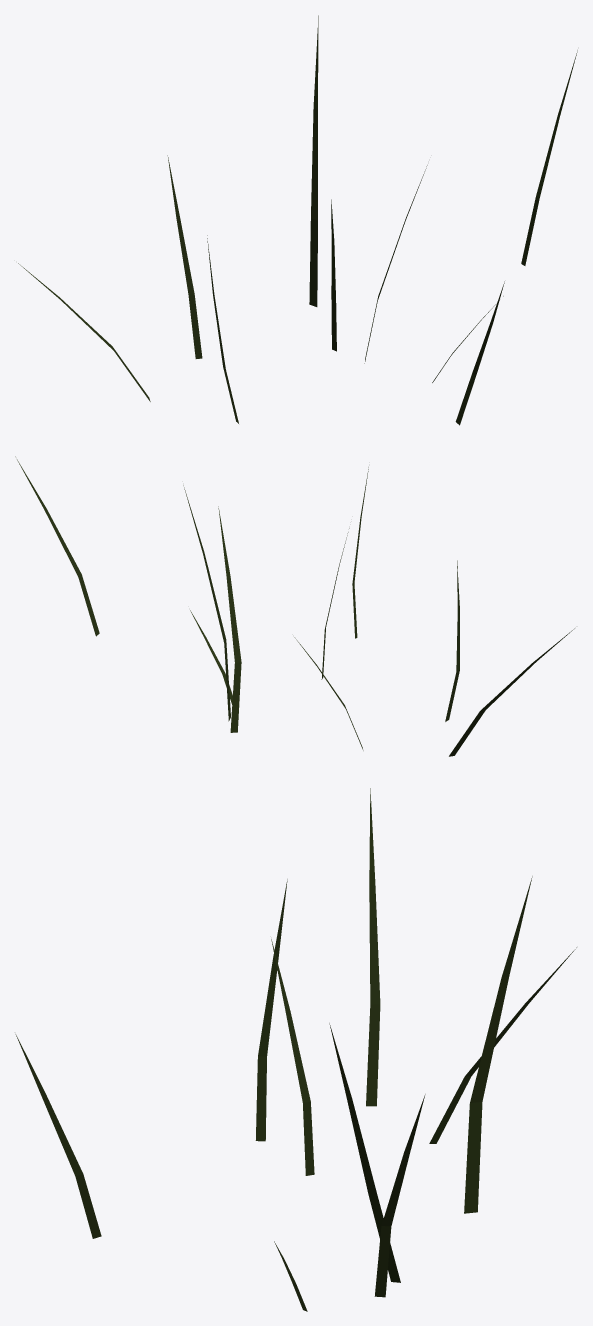
Rendered from grass2.fbx.
3 renders of one model, top to bottom at view 1: azimuth 30°, elevation 25°; view 2: azimuth 150°, elevation 25°; view 3: azimuth 270°, elevation 25°, orthographic. The views are drawn at different scales.
Parts seen in each view (by area): view 1: grass 2; view 2: grass 2; view 3: grass 2.
Part boxes in pixels (x1,y1,x2,y2): grass 2: (18,15,577,425); grass 2: (15,456,574,756); grass 2: (15,788,576,1311).
Bounding box in the file's own units: 211 × 108 × 132.
